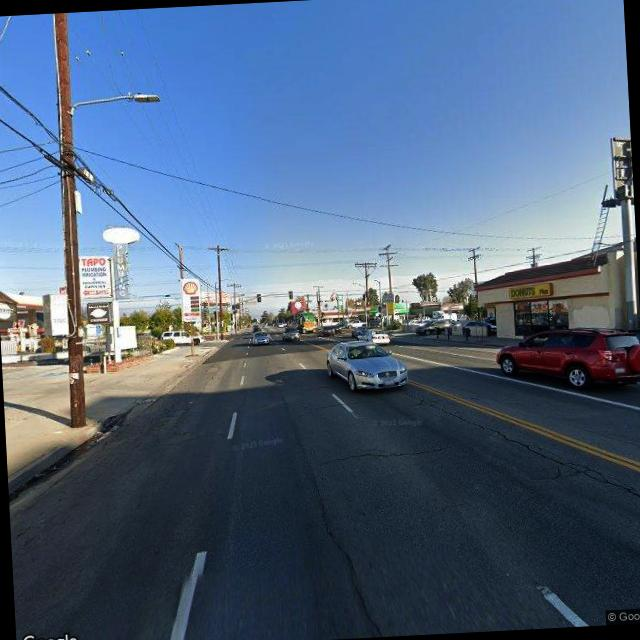crack: (413, 382, 640, 514), (316, 440, 452, 468)
